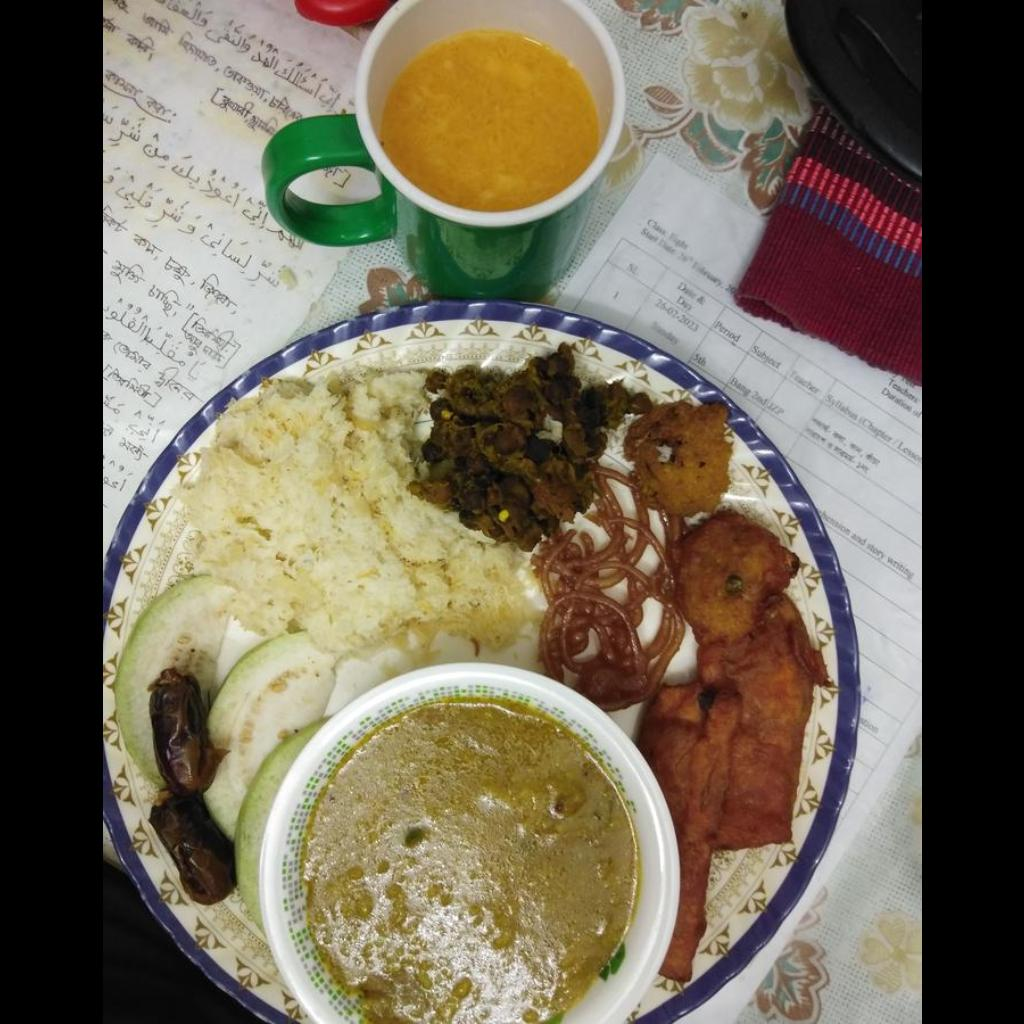beguni: (638, 511, 828, 983)
chola: (413, 351, 631, 542)
daal: (304, 703, 639, 1017)
dates: (144, 674, 243, 905)
guava: (116, 576, 333, 930)
jilapi: (532, 466, 683, 711)
juice: (380, 30, 598, 212)
peyaju: (628, 401, 728, 517)
rice: (181, 370, 538, 667)
